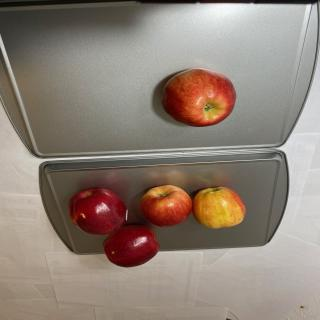Apple: (162, 68, 236, 127), (68, 188, 128, 235), (102, 224, 160, 268), (192, 186, 246, 229), (140, 185, 192, 228)
